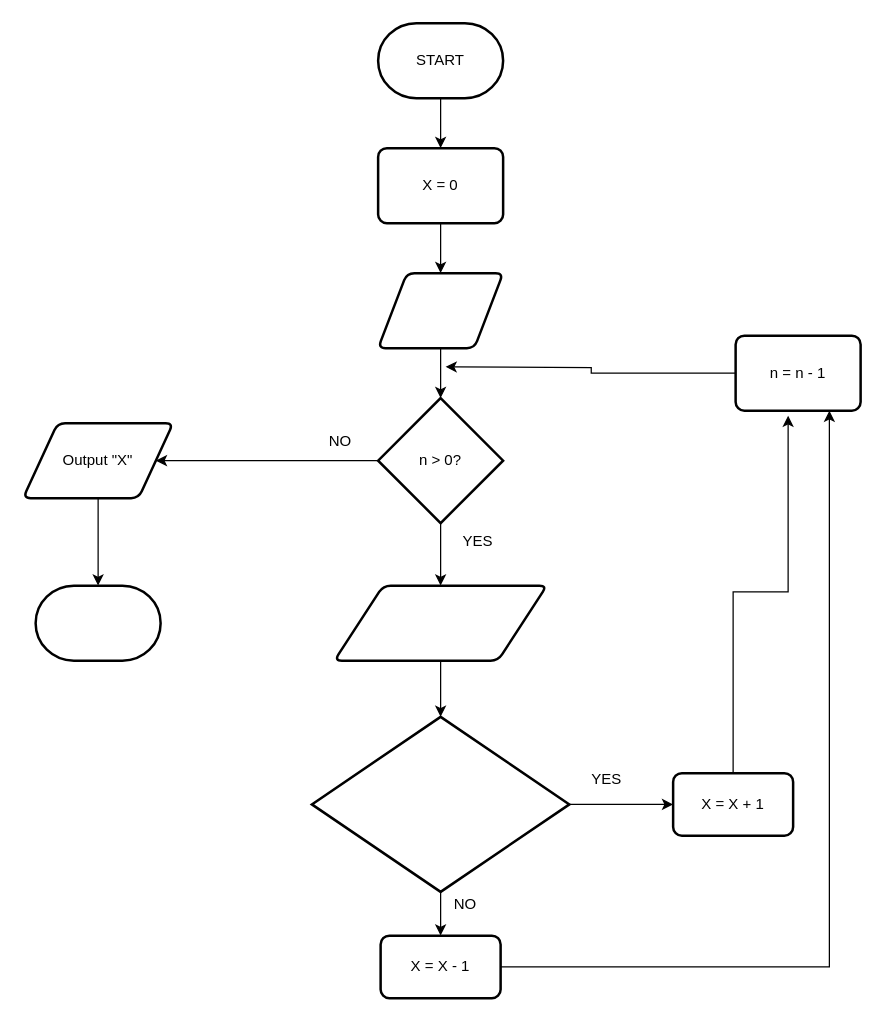
This 883x1020 diagram has some shape labels left out. Here are the shapes that lost their labels. From the top down, the box of each, then its label:
(376, 271, 504, 349): Input "n" :
(34, 584, 161, 661): END
(332, 584, 548, 661): Input the statement :
(310, 715, 570, 892): Is the second character of the statement ‘+’?
